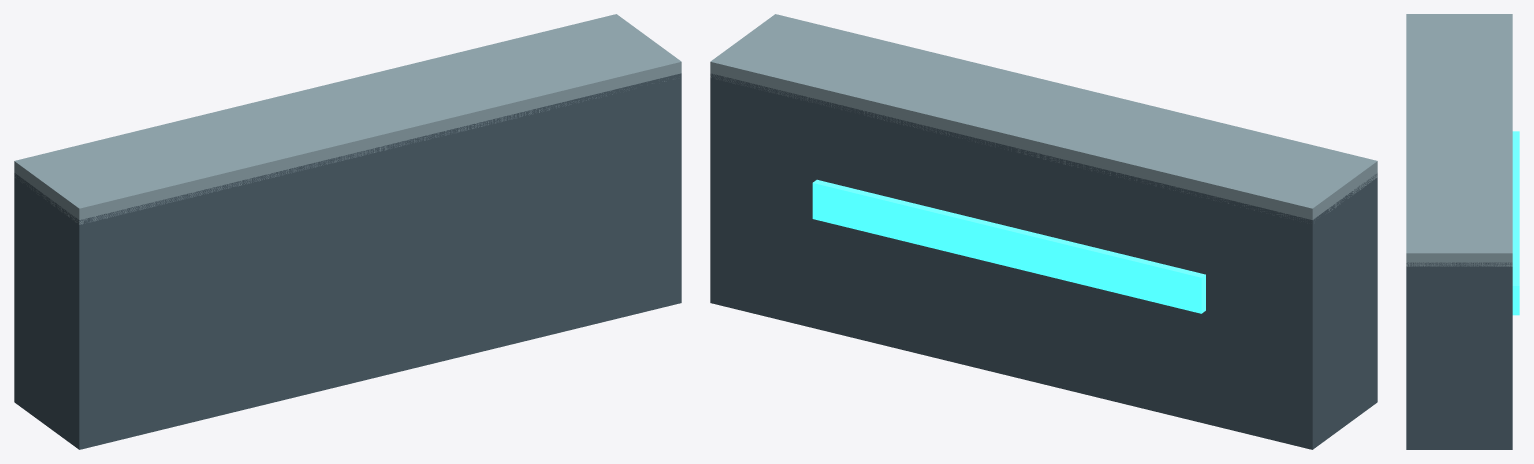
File: wall_low_straight.glb
3 renders of one model, left to right at view 1: azimuth 30°, elevation 25°; view 2: azimuth 150°, elevation 25°; view 3: azimuth 270°, elevation 25°, orthographic. The views are drawn at different scales.
Visible parts, largest first — view 1: LowWall, LowWallCap; view 2: LowWall, LowWallCap, Inset; view 3: LowWallCap, LowWall, Inset.
Part boxes in pixels (x1,y1,x2,y2): LowWall: [14, 73, 681, 449]; LowWallCap: [14, 14, 681, 224]; LowWall: [710, 73, 1377, 449]; LowWallCap: [710, 14, 1377, 223]; Inset: [812, 179, 1205, 313]; LowWallCap: [1406, 14, 1512, 266]; LowWall: [1406, 262, 1512, 449]; Inset: [1512, 131, 1519, 315].
Size of the model in its own units: 1.92 by 0.735 by 0.384.
